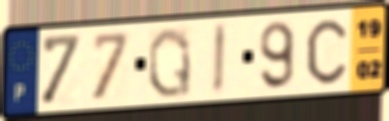7: (40, 34, 85, 109), (91, 29, 132, 104)
9: (258, 19, 297, 91)
C: (304, 17, 349, 87)
I: (210, 20, 229, 98)
Q: (146, 25, 193, 101)
